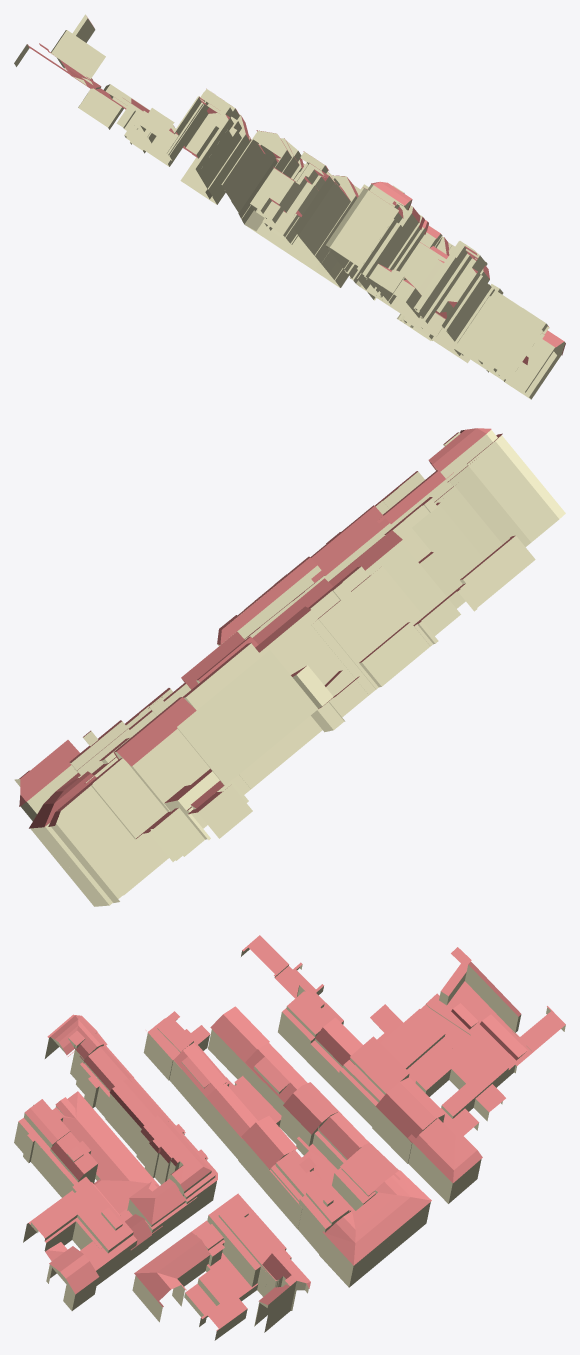
Rendered from tile_016.glb.
3 views of the same model, one above another, from view 1: azimuth 30°, elevation 25°; view 2: azimuth 150°, elevation 25°; view 3: azimuth 270°, elevation 25° (orthographic). The views are drawn at different scales.
Parts seen in each view (by area): view 1: Batched_Building_ID_9B4308DC-5312-42EF-9D79-DEDD3BF3D58A, Batched_Building_ID_7A60F1D8-89C4-4AED-8B6F-05BBD51CA5F4; view 2: Batched_Building_ID_9B4308DC-5312-42EF-9D79-DEDD3BF3D58A, Batched_Building_ID_7A60F1D8-89C4-4AED-8B6F-05BBD51CA5F4; view 3: Batched_Building_ID_7A60F1D8-89C4-4AED-8B6F-05BBD51CA5F4, Batched_Building_ID_9B4308DC-5312-42EF-9D79-DEDD3BF3D58A.
Part boxes in pixels (<box>): Batched_Building_ID_9B4308DC-5312-42EF-9D79-DEDD3BF3D58A: <box>14,14,565,399</box>; Batched_Building_ID_7A60F1D8-89C4-4AED-8B6F-05BBD51CA5F4: <box>27,17,565,364</box>; Batched_Building_ID_9B4308DC-5312-42EF-9D79-DEDD3BF3D58A: <box>14,430,565,906</box>; Batched_Building_ID_7A60F1D8-89C4-4AED-8B6F-05BBD51CA5F4: <box>19,428,515,838</box>; Batched_Building_ID_7A60F1D8-89C4-4AED-8B6F-05BBD51CA5F4: <box>18,935,565,1330</box>; Batched_Building_ID_9B4308DC-5312-42EF-9D79-DEDD3BF3D58A: <box>14,947,565,1340</box>.
Size of the model in its own units: 138 by 116 by 209.
